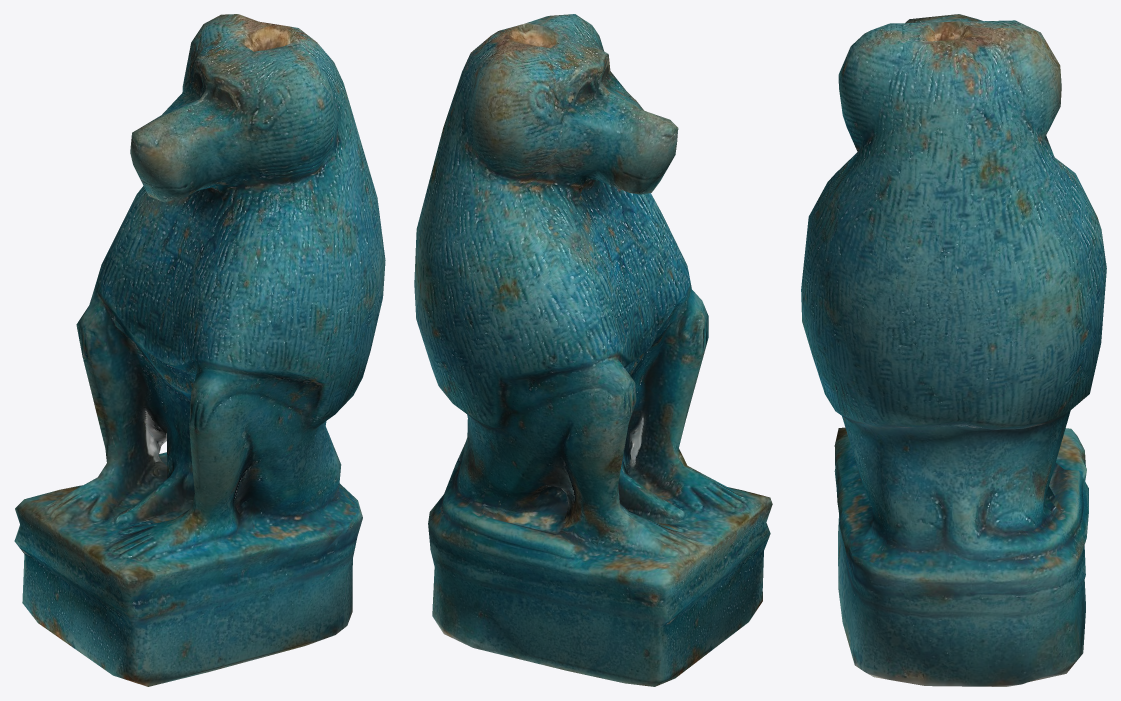
Rendered from baboon-blue.glb.
3 renders of one model, left to right at view 1: azimuth 30°, elevation 25°; view 2: azimuth 150°, elevation 25°; view 3: azimuth 270°, elevation 25°, orthographic. The views are drawn at different scales.
Parts seen in each view (by area): view 1: baboon-low; view 2: baboon-low; view 3: baboon-low.
Boxes of the visible parts, left/top/right/bottom form: baboon-low: left=14, top=14, right=385, bottom=686; baboon-low: left=414, top=14, right=772, bottom=686; baboon-low: left=801, top=14, right=1106, bottom=686.
Size of the model in its own units: 0.0841 by 0.1595 by 0.0702.
Materials: 1 (1 with a texture image).
